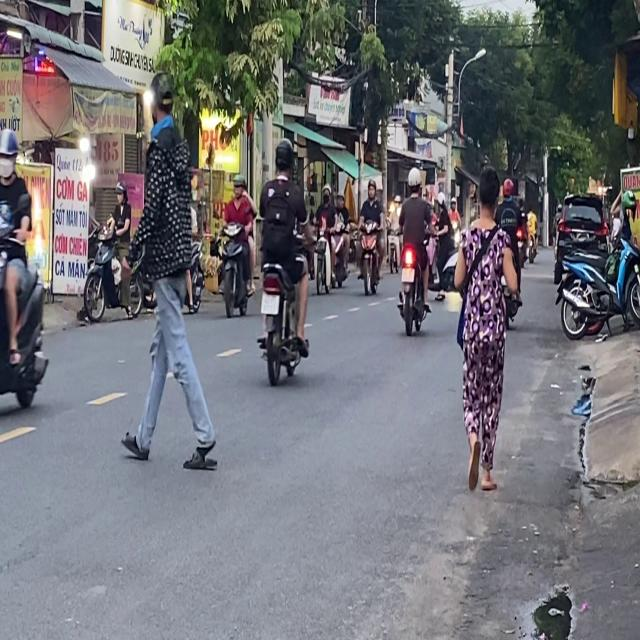helmet: (0, 127, 19, 175), (273, 137, 294, 176), (232, 172, 246, 196)
licenseplate: (0, 125, 49, 428), (255, 136, 311, 383), (217, 172, 256, 317)
nohelmet: (261, 293, 279, 315)
